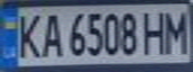0: (103, 9, 124, 57)
5: (84, 9, 106, 56)
6: (63, 9, 87, 57)
8: (118, 9, 142, 56)
A: (36, 10, 66, 58)
H: (139, 7, 172, 55)
K: (9, 10, 45, 60)
M: (160, 7, 193, 54)
